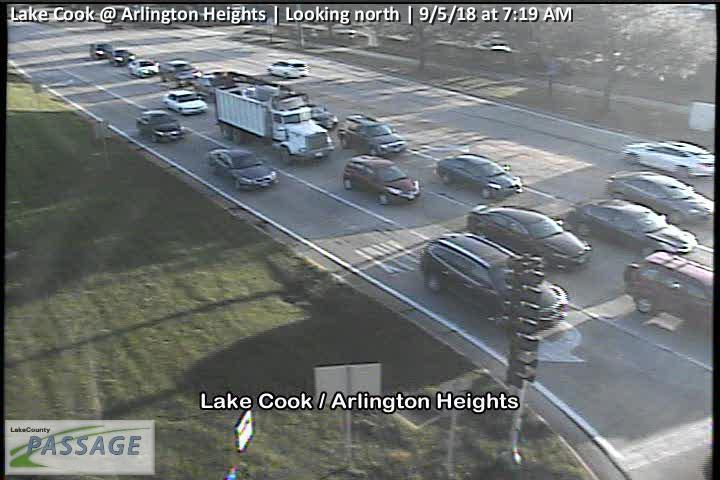SUV: (622, 249, 715, 327), (336, 109, 406, 154)
Sedan: (418, 230, 569, 335), (466, 203, 593, 270), (566, 196, 698, 258), (603, 169, 720, 232), (620, 135, 720, 183), (436, 151, 524, 199), (343, 154, 422, 205), (205, 147, 279, 188), (137, 111, 185, 142), (162, 87, 209, 114), (267, 59, 311, 79), (128, 57, 162, 78), (108, 47, 135, 65), (89, 42, 113, 61)
Truck: (211, 79, 336, 162)
